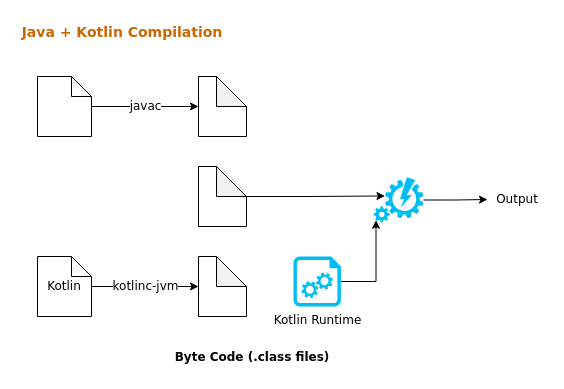
This 564x389 diagram has some shape labels left out. The centre of each missing label's shape, as x and y in pixels:
Java: point (64, 106)
JVM: point (398, 199)
